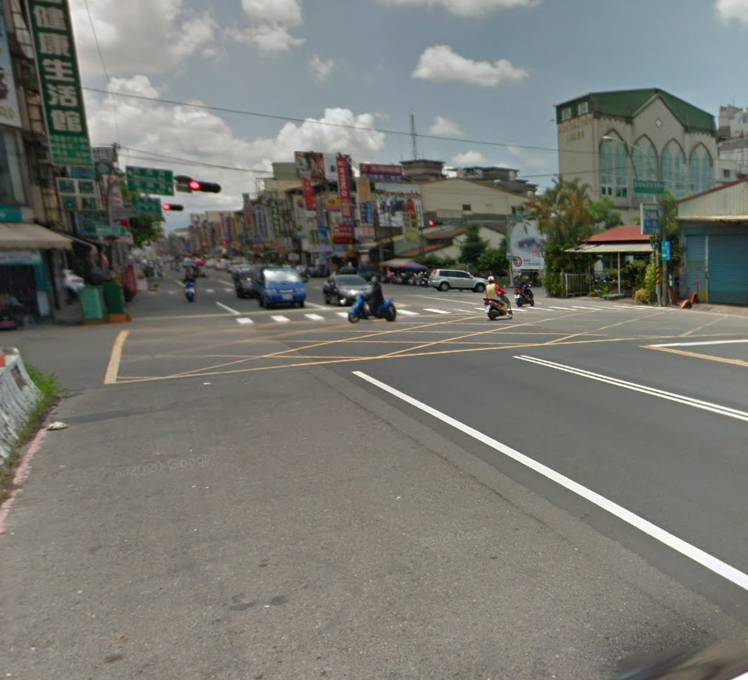red: (184, 175, 221, 193), (162, 200, 184, 211), (427, 218, 442, 226)
